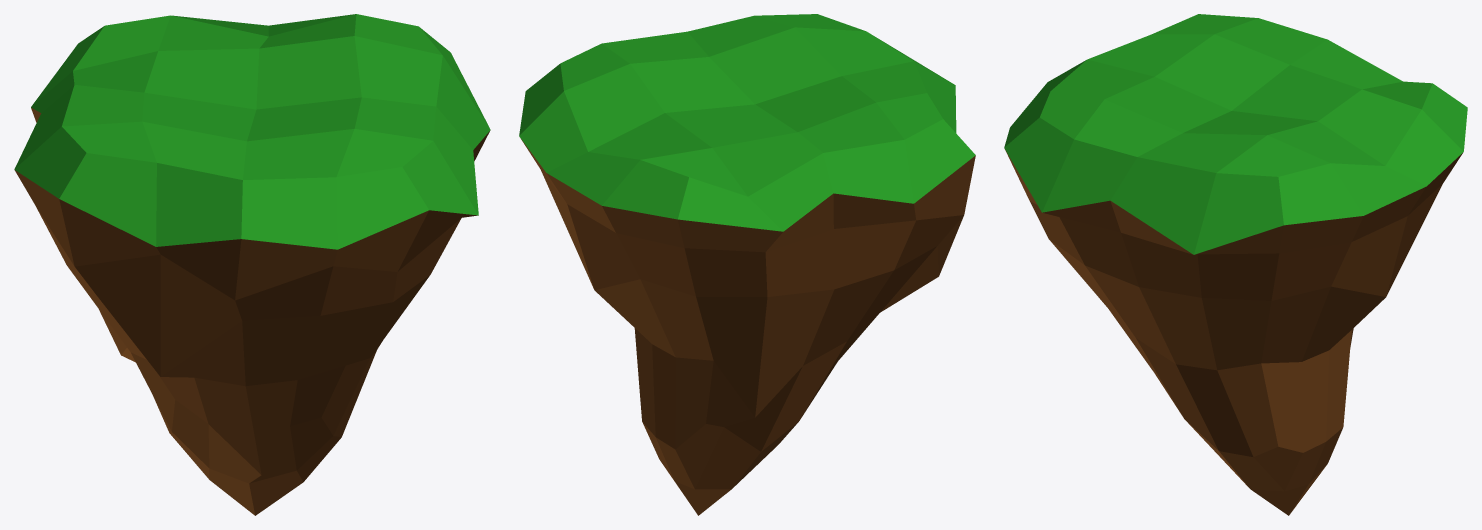
Rendered from singleIsland.glb.
3 views of the same model, side by side, from view 1: azimuth 30°, elevation 25°; view 2: azimuth 150°, elevation 25°; view 3: azimuth 270°, elevation 25° (orthographic). The views are drawn at different scales.
Visible parts, largest first — view 1: Cube; view 2: Cube; view 3: Cube.
Part boxes in pixels (x1=…): Cube: x1=14, y1=14, x2=490, y2=515; Cube: x1=519, y1=14, x2=975, y2=515; Cube: x1=1004, y1=14, x2=1467, y2=515.
Bounding box in the file's own units: 3.81 × 3.84 × 3.85.
